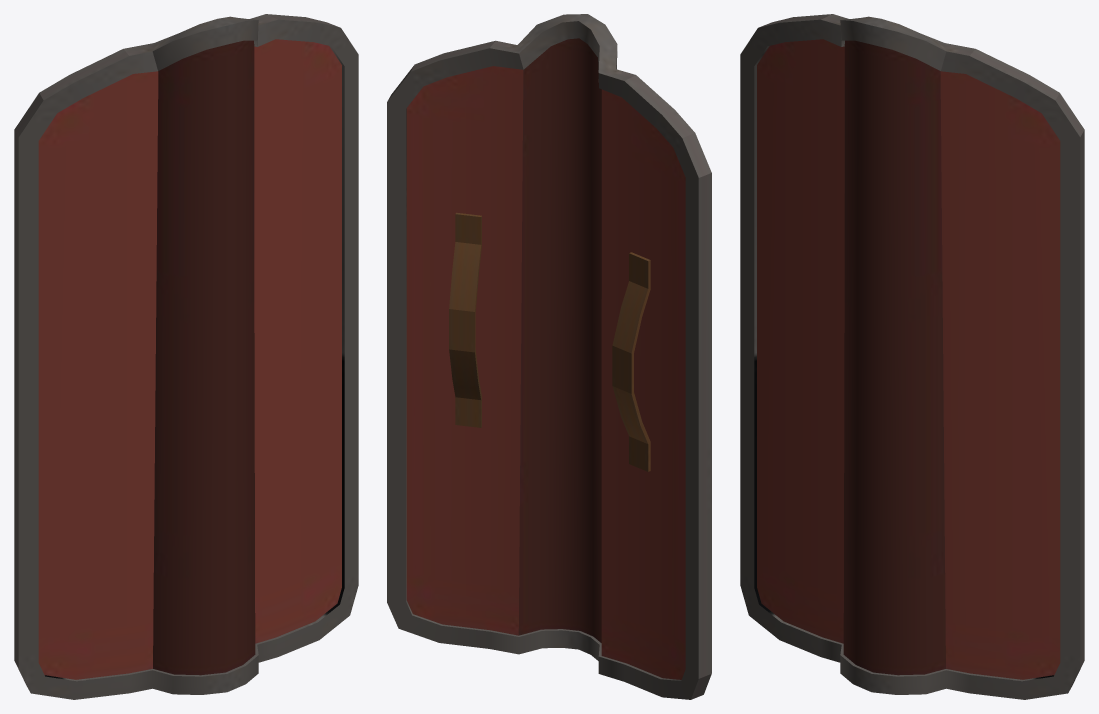
Rendered from Pavise Shield_Red.fbx.
3 views of the same model, side by side, from view 1: azimuth 30°, elevation 25°; view 2: azimuth 150°, elevation 25°; view 3: azimuth 330°, elevation 25° (orthographic). The views are drawn at different scales.
Visible parts, largest first — view 1: Pavise Shield_Red_Baked; view 2: Pavise Shield_Red_Baked; view 3: Pavise Shield_Red_Baked.
Part boxes in pixels (x1,y1,x2,y2): Pavise Shield_Red_Baked: (14, 14, 358, 699); Pavise Shield_Red_Baked: (387, 14, 711, 699); Pavise Shield_Red_Baked: (740, 14, 1084, 699).
Bounding box in the file's own units: 65.21 × 122 × 16.93.
1 material, 1 textured.
